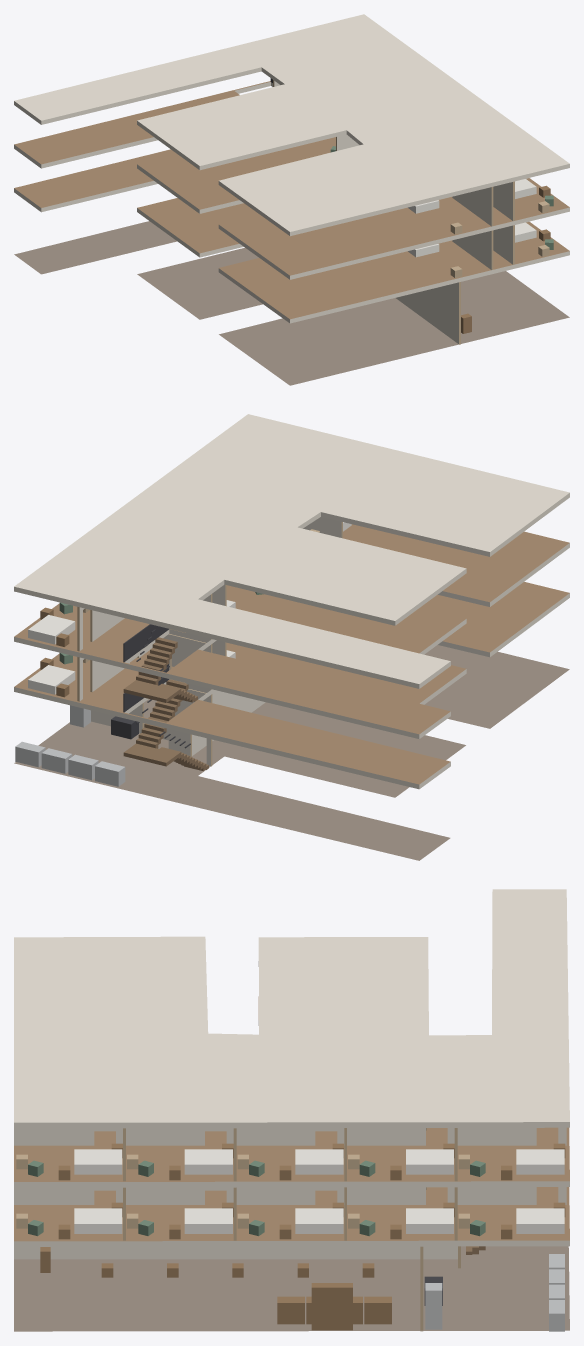
File: interior.glb
3 renders of one model, top to bottom at view 1: azimuth 30°, elevation 25°; view 2: azimuth 150°, elevation 25°; view 3: azimuth 270°, elevation 25°, orthographic. The views are drawn at different scales.
Parts seen in each view (by area): view 1: slabs, partitions, coarse-s2, coarse-s1; view 2: slabs, partitions, stair, coarse-s0, coarse-s2, coarse-s1; view 3: slabs, partitions, coarse-s1, coarse-s2, coarse-s0.
Part boxes in pixels (x1,y1,x2,y2): slabs: [14, 14, 569, 385]; partitions: [273, 80, 527, 344]; coarse-s2: [330, 146, 553, 234]; coarse-s1: [408, 222, 553, 277]; slabs: [14, 414, 569, 860]; partitions: [77, 517, 342, 766]; stair: [123, 624, 208, 771]; coarse-s0: [15, 705, 138, 786]; coarse-s2: [28, 522, 351, 646]; coarse-s1: [28, 650, 235, 697]; slabs: [14, 889, 569, 1331]; partitions: [14, 1127, 566, 1331]; coarse-s1: [16, 1202, 565, 1239]; coarse-s2: [16, 1143, 565, 1180]; coarse-s0: [40, 1247, 564, 1331].
Bounding box in the file's own units: 22.87 × 9.55 × 23.01.
